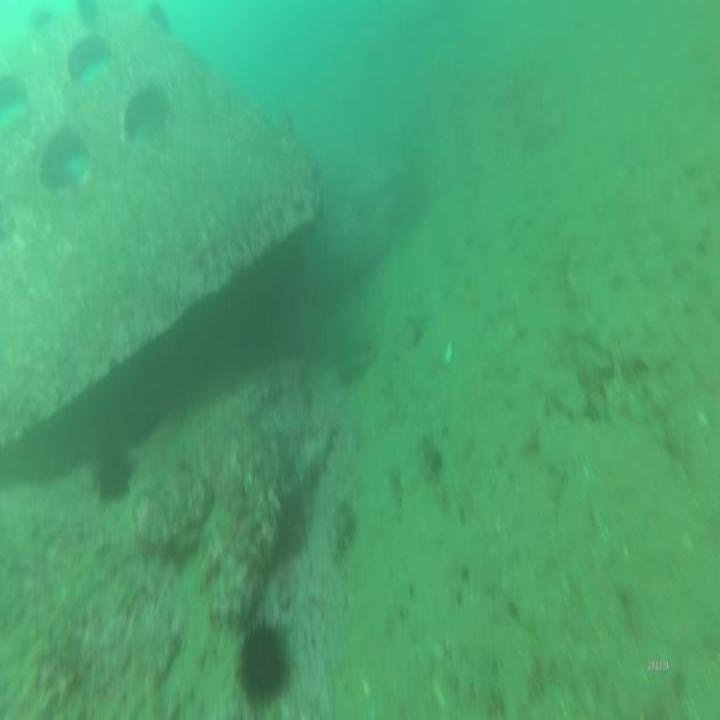echinus: (234, 606, 293, 710)
holothurian: (333, 482, 359, 572)
starfish: (93, 441, 137, 505)
